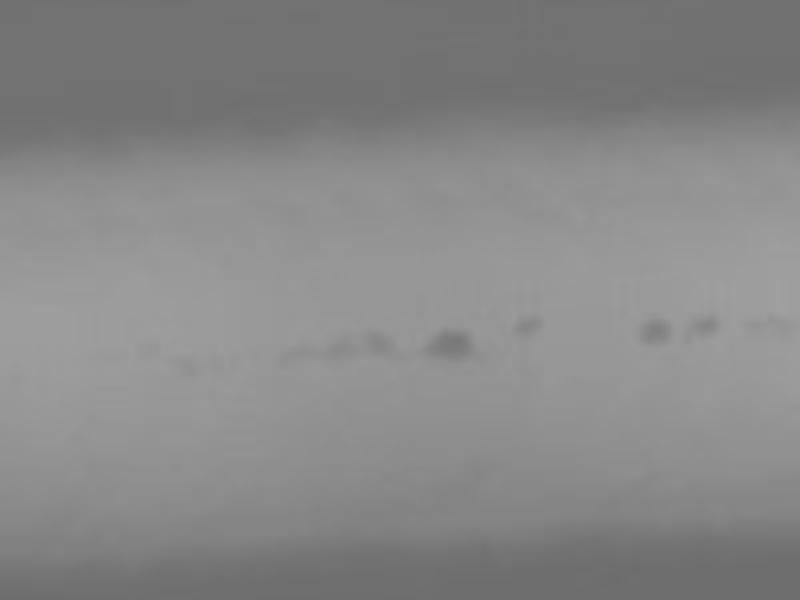defect: (425, 328, 472, 361), (636, 313, 670, 348), (319, 329, 355, 360), (358, 328, 396, 356), (681, 312, 716, 340), (511, 311, 544, 335)
